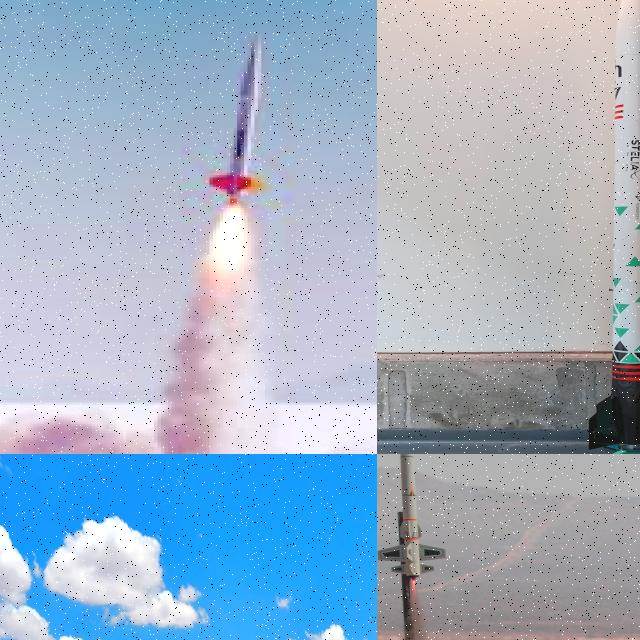Rocket: (200, 30, 272, 206), (377, 454, 447, 580)
